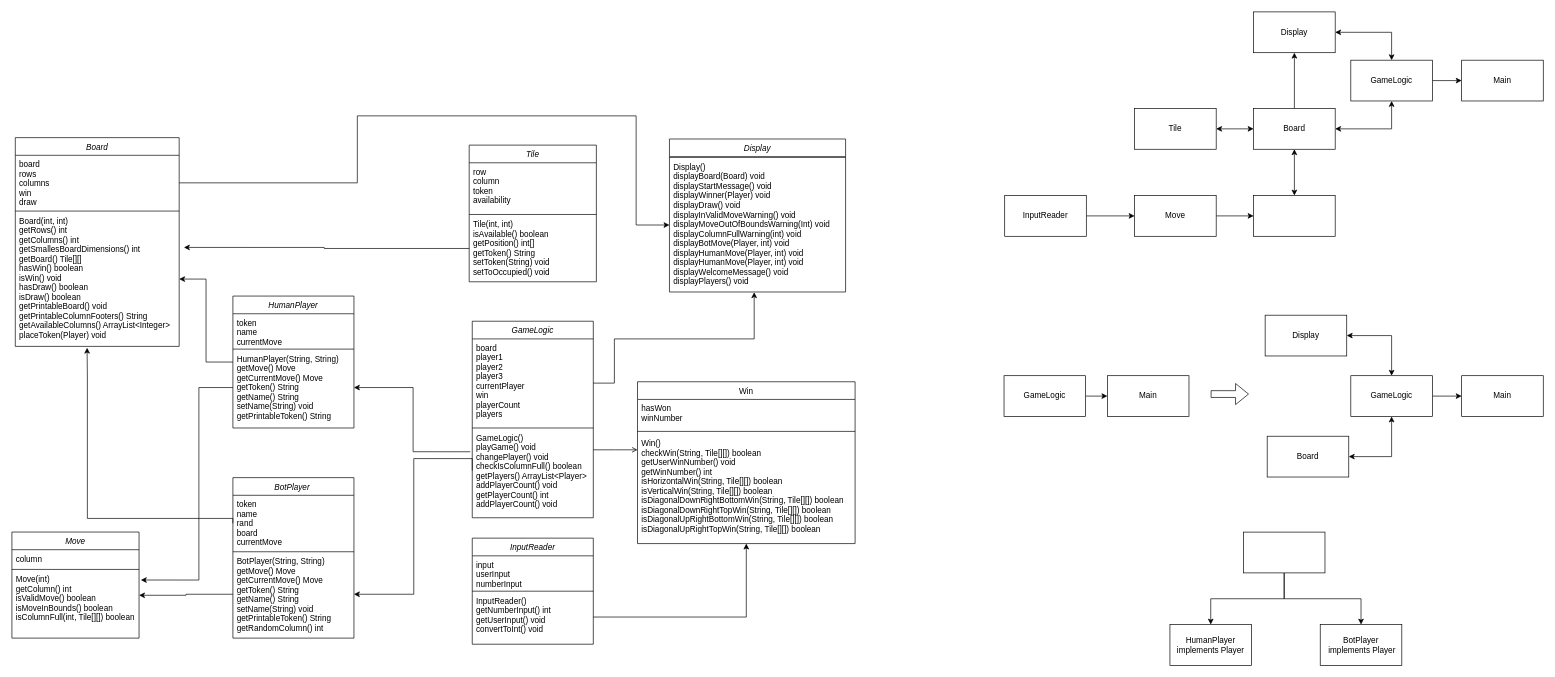
This 1555x677 diagram has some shape labels left out. The centre of each missing label's shape, as x and y in pixels:
Player: the point at 1294,215
Player Interface: the point at 1284,552
